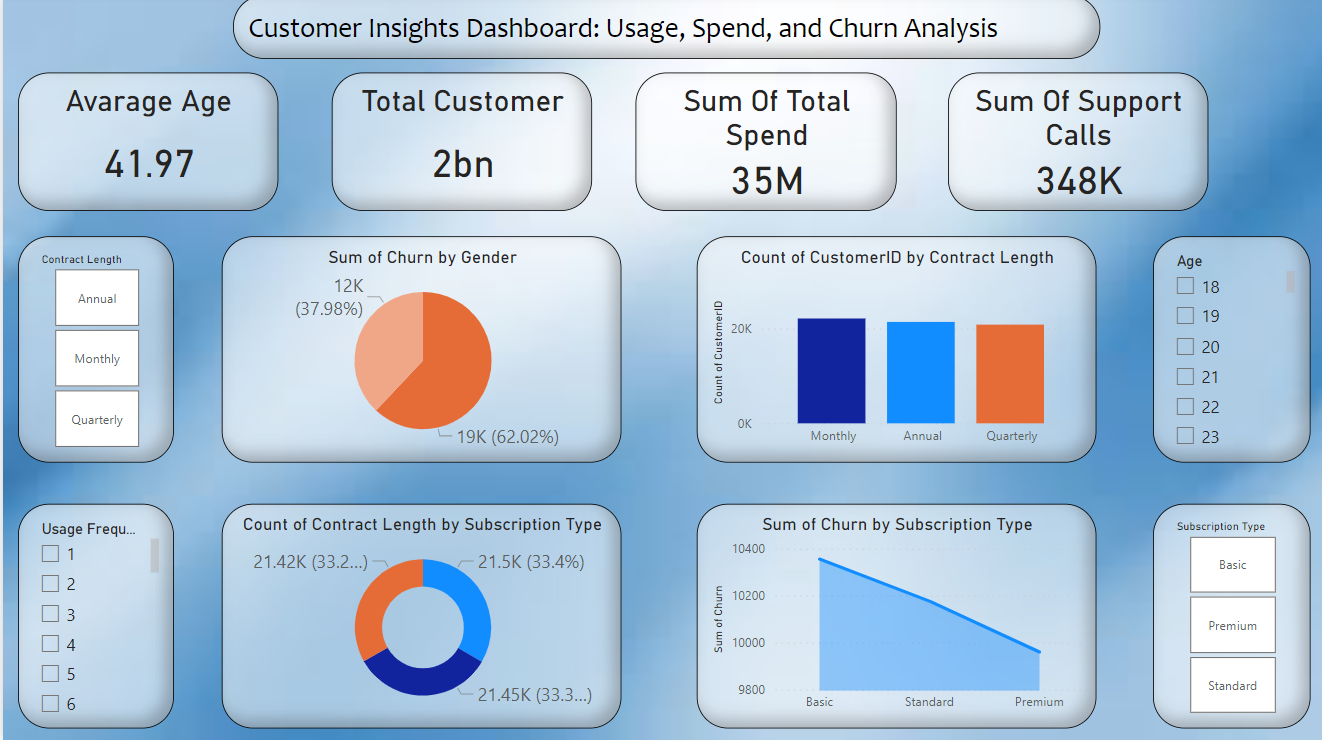

The page's visual inventory and layout, read from the dashboard file:
{"tool":"powerbi","page":{"name":"Page 1","canvas":[1280,720],"ordinal":0},"visuals":[{"type":"card","title":"Avarage Age","fields":{"Values":["customer_churn_dataset-testing-master.age Avg"]},"box":[14.5,74.8,250.9,133.9],"z":0},{"type":"card","title":"Sum Of Support Calls","fields":{"Values":["Sum(customer_churn_dataset-testing-master.Support Calls)"]},"box":[911.8,74.8,250.9,133.9],"z":1000},{"type":"card","title":"Sum Of Total Spend","fields":{"Values":["Sum(customer_churn_dataset-testing-master.Total Spend)"]},"box":[610.3,74.8,252.1,133.9],"z":2000},{"type":"card","title":"Total Customer","fields":{"Values":["Sum(customer_churn_dataset-testing-master.CustomerID)"]},"box":[317.2,74.8,250.9,133.9],"z":3000},{"type":"pieChart","fields":{"Category":["customer_churn_dataset-testing-master.Gender"],"Y":["Sum(customer_churn_dataset-testing-master.Churn)"]},"box":[211.1,232.8,385.9,218.3],"z":4000},{"type":"stackedAreaChart","fields":{"Category":["customer_churn_dataset-testing-master.Subscription Type"],"Y":["Sum(customer_churn_dataset-testing-master.Churn)"]},"box":[669.3,490.9,385.9,217.1],"z":5000},{"type":"columnChart","title":"Count of CustomerID by Contract Length ","fields":{"Series":["customer_churn_dataset-testing-master.Contract Length"],"Category":["customer_churn_dataset-testing-master.Contract Length"],"Y":["CountNonNull(customer_churn_dataset-testing-master.CustomerID)"]},"box":[669.3,232.8,385.9,218.3],"z":6000},{"type":"donutChart","fields":{"Category":["customer_churn_dataset-testing-master.Subscription Type"],"Y":["CountNonNull(customer_churn_dataset-testing-master.Contract Length)"]},"box":[211.1,490.9,385.9,217.1],"z":7000},{"type":"slicer","fields":{"Values":["customer_churn_dataset-testing-master.Age"]},"box":[1109.5,232.8,152,218.3],"z":7001},{"type":"slicer","fields":{"Values":["customer_churn_dataset-testing-master.Subscription Type"]},"box":[1109.5,490.9,152,217.1],"z":7002},{"type":"slicer","fields":{"Values":["customer_churn_dataset-testing-master.Contract Length"]},"box":[14.5,232.8,150.8,218.3],"z":7003},{"type":"slicer","fields":{"Values":["customer_churn_dataset-testing-master.Usage Frequency"]},"box":[14.5,490.9,150.8,217.1],"z":7004},{"type":"textbox","box":[221.9,0,837,61.5],"z":7005}]}

Visuals, with their boxes in screenshot pixels (x1, y1, x2, y2), scaled from the page's 1280x720 canvas onto the 1322x740 screenshot:
"Avarage Age" card: (x1=15, y1=77, x2=274, y2=214)
"Sum Of Support Calls" card: (x1=942, y1=77, x2=1201, y2=214)
"Sum Of Total Spend" card: (x1=630, y1=77, x2=891, y2=214)
"Total Customer" card: (x1=328, y1=77, x2=587, y2=214)
pieChart - customer_churn_dataset-testing-master.Gender x Sum(customer_churn_dataset-testing-master.Churn): (x1=218, y1=239, x2=617, y2=464)
stackedAreaChart - customer_churn_dataset-testing-master.Subscription Type x Sum(customer_churn_dataset-testing-master.Churn): (x1=691, y1=505, x2=1090, y2=728)
"Count of CustomerID by Contract Length " columnChart: (x1=691, y1=239, x2=1090, y2=464)
donutChart - customer_churn_dataset-testing-master.Subscription Type x CountNonNull(customer_churn_dataset-testing-master.Contract Length): (x1=218, y1=505, x2=617, y2=728)
slicer - customer_churn_dataset-testing-master.Age: (x1=1146, y1=239, x2=1303, y2=464)
slicer - customer_churn_dataset-testing-master.Subscription Type: (x1=1146, y1=505, x2=1303, y2=728)
slicer - customer_churn_dataset-testing-master.Contract Length: (x1=15, y1=239, x2=171, y2=464)
slicer - customer_churn_dataset-testing-master.Usage Frequency: (x1=15, y1=505, x2=171, y2=728)
textbox: (x1=229, y1=0, x2=1094, y2=63)
